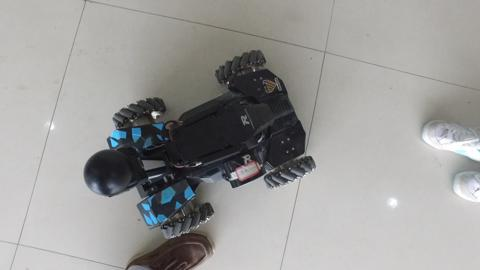chariot: (63, 52, 311, 232)
